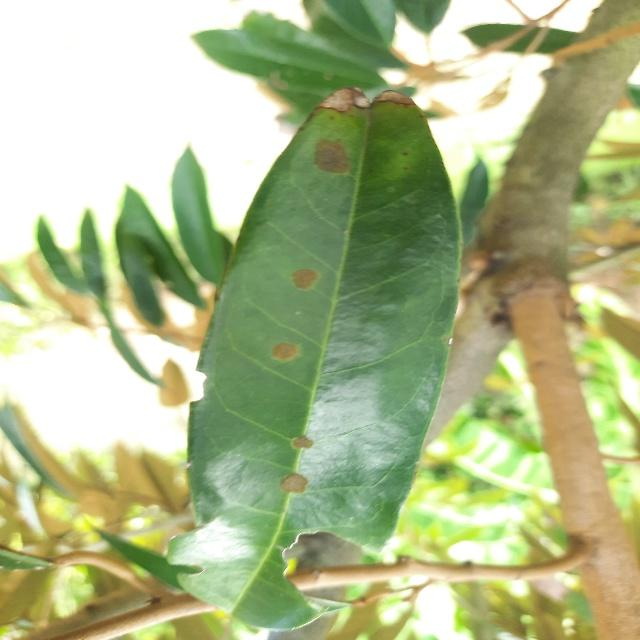Algal Leaf Spot: (158, 69, 477, 639)
